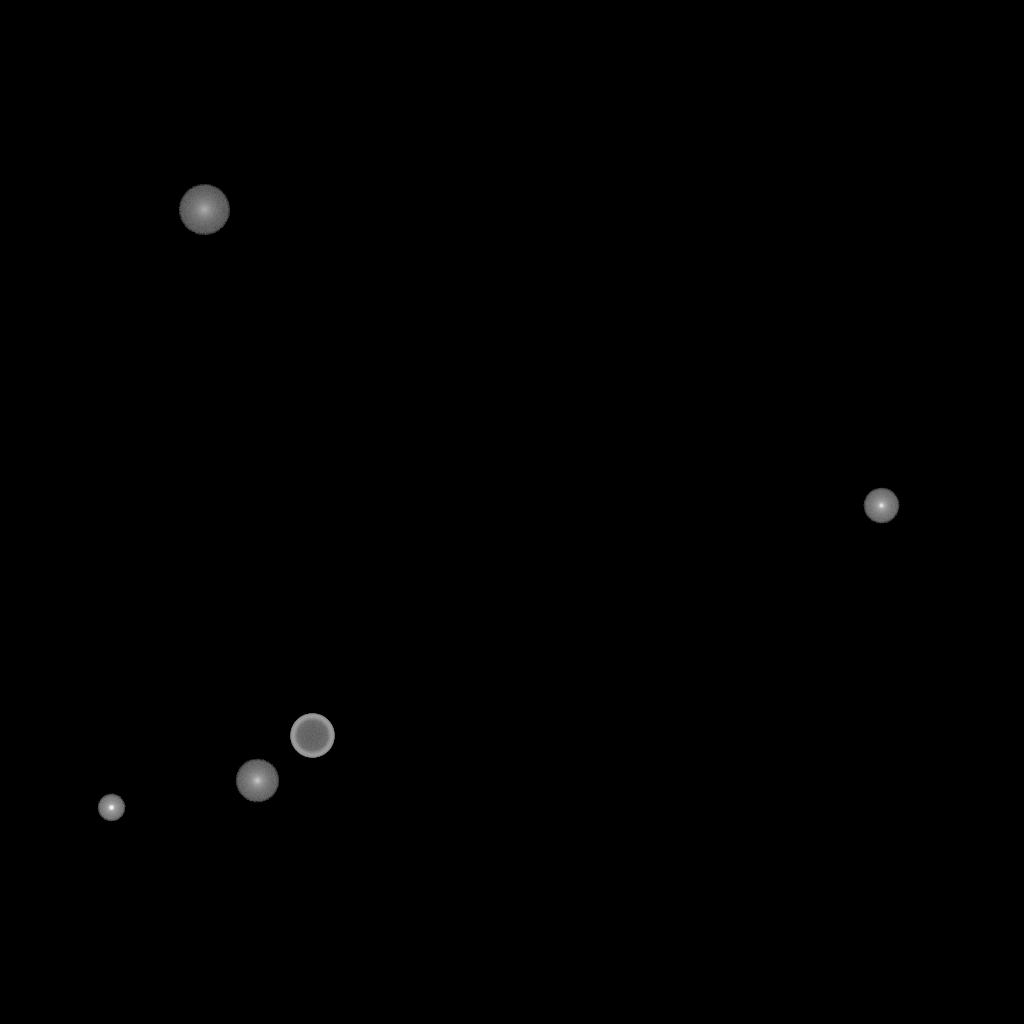depth:-10: (97, 794, 125, 822)
depth:-70: (290, 714, 334, 758)
depth:0: (863, 488, 899, 524)
depth:10: (235, 759, 279, 803)
depth:20: (178, 185, 230, 235)
